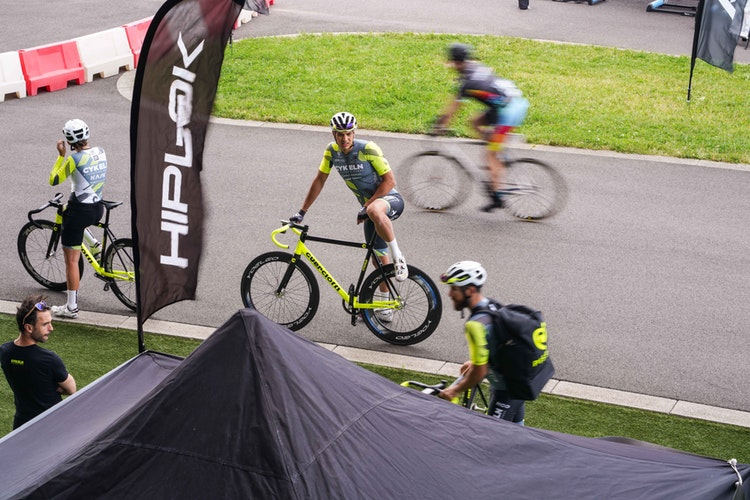helmet: (436, 263, 488, 291), (332, 109, 354, 135)
